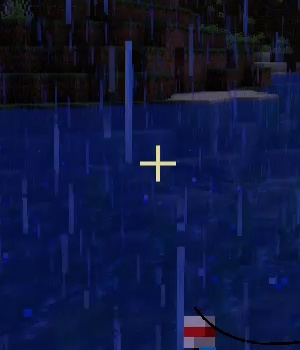up: (181, 309, 216, 350)
